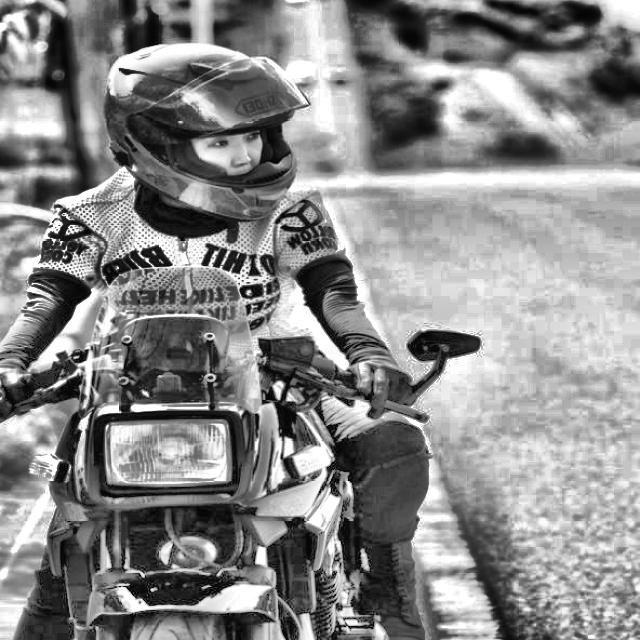Helmet: (97, 38, 317, 226)
